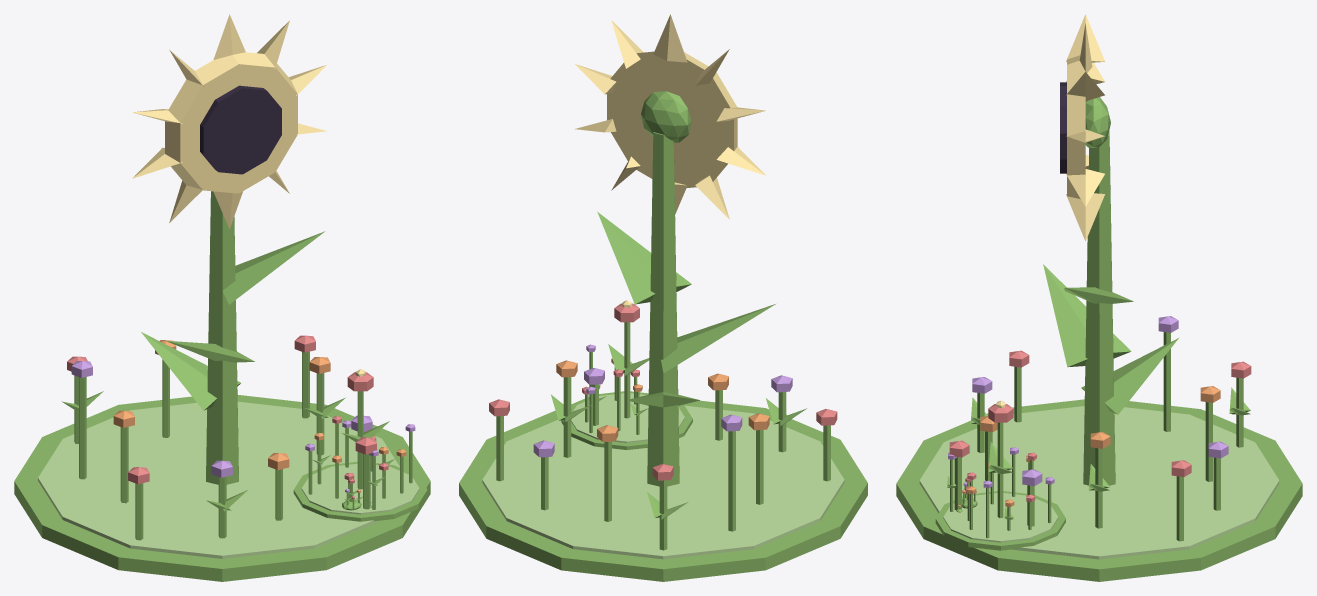
File: meadow-g3.glb
The picture shows the model from 3 angles, left to right: view 1: azimuth 30°, elevation 25°; view 2: azimuth 150°, elevation 25°; view 3: azimuth 270°, elevation 25°; orthographic projection. The views are drawn at different scales.
Parts seen in each view (by area): view 1: meadow-g3; view 2: meadow-g3; view 3: meadow-g3.
Part boxes in pixels (<box>): meadow-g3: <box>14,14,430,581</box>; meadow-g3: <box>459,14,867,581</box>; meadow-g3: <box>896,14,1302,581</box>.
Size of the model in its own units: 3.5 by 4.5 by 3.5.
